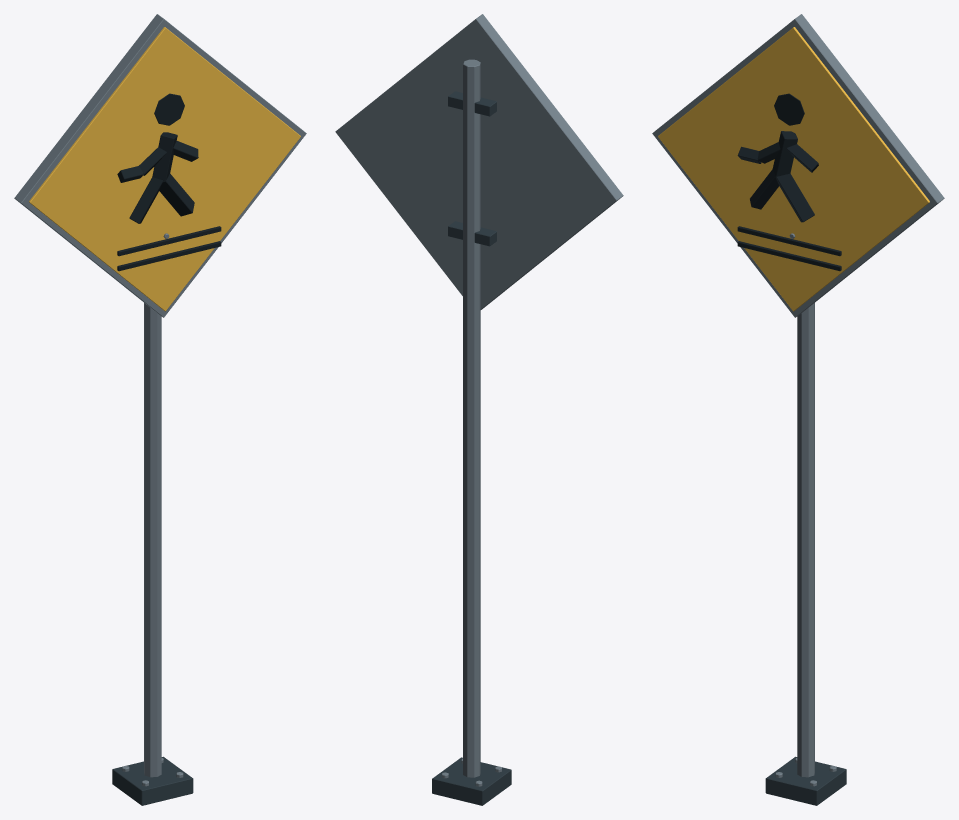
The model's file is b02_pedestrian_crossing.glb.
3 renders of one model, left to right at view 1: azimuth 30°, elevation 25°; view 2: azimuth 150°, elevation 25°; view 3: azimuth 330°, elevation 25°, orthographic.
Visible parts, largest first — view 1: b02_pedestrian_crossing; view 2: b02_pedestrian_crossing; view 3: b02_pedestrian_crossing.
Boxes of the visible parts, x1=… form: b02_pedestrian_crossing: x1=14, y1=14, x2=306, y2=805; b02_pedestrian_crossing: x1=335, y1=14, x2=623, y2=805; b02_pedestrian_crossing: x1=652, y1=14, x2=944, y2=805.
Size of the model in its own units: 0.9979 by 2.6 by 0.2199.
